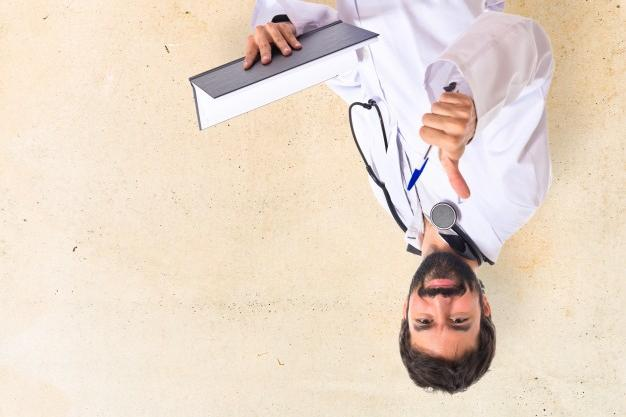thumbsdown: (419, 92, 474, 199)
